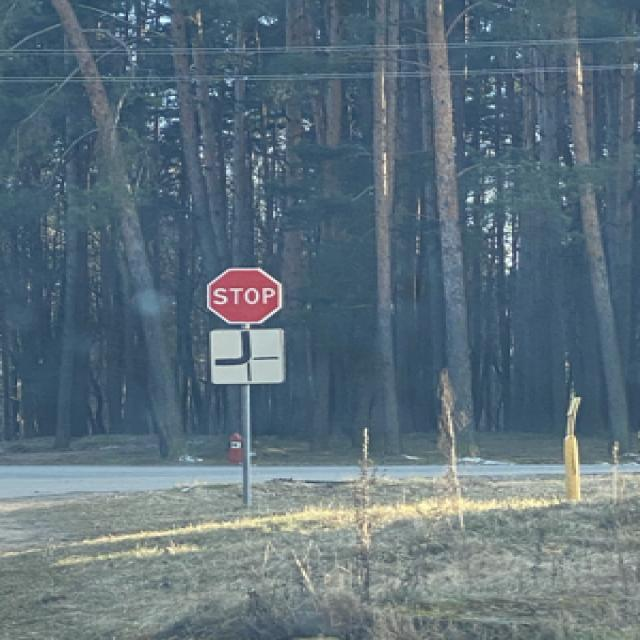stop: (202, 266, 280, 323)
